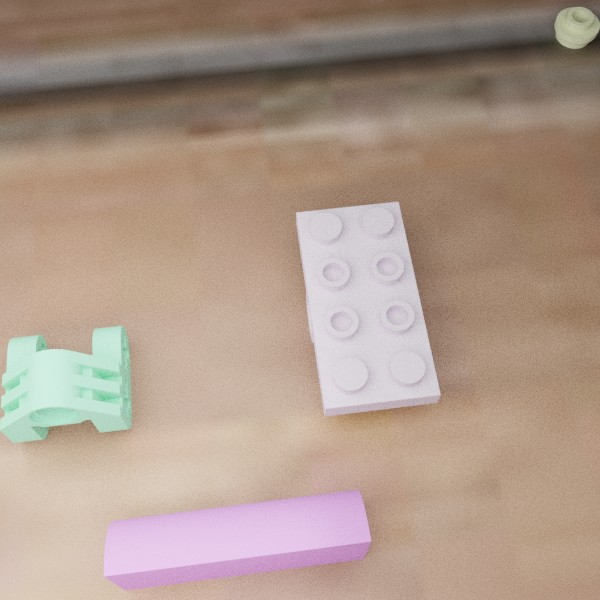lego: (296, 201, 440, 416), (103, 489, 371, 590), (0, 325, 131, 442), (554, 6, 600, 48)
